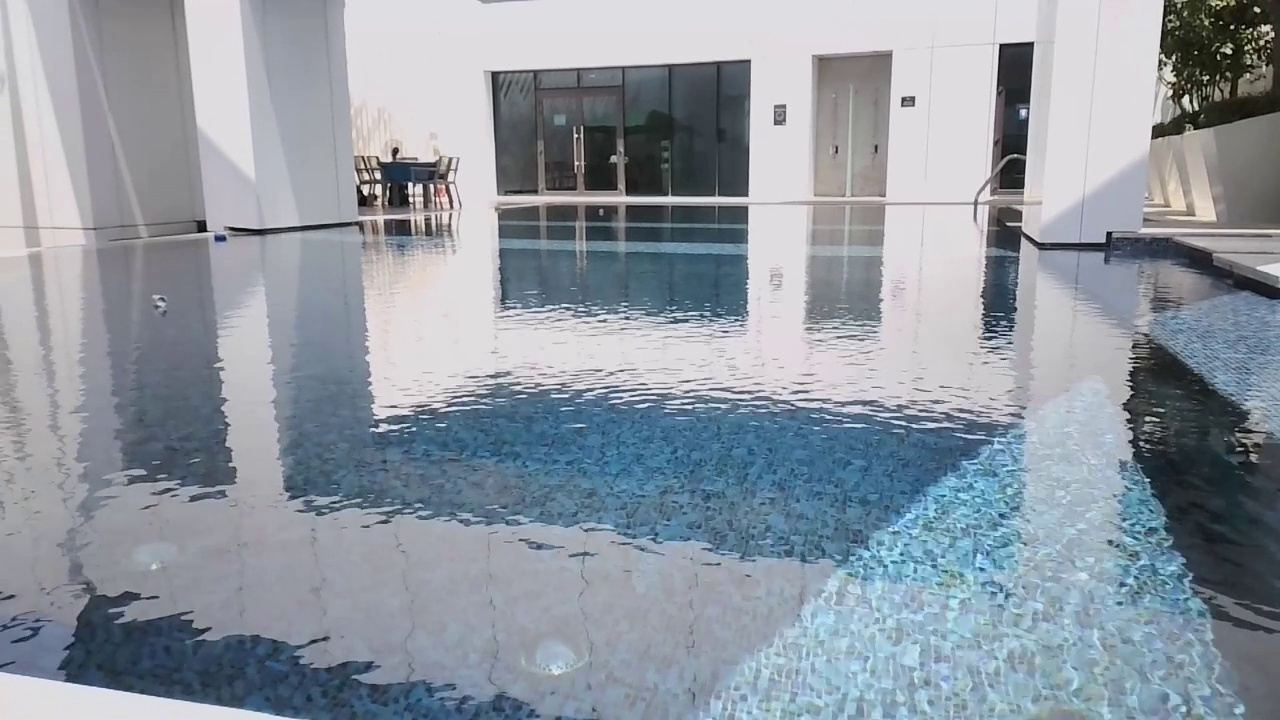debris: (146, 289, 172, 313), (211, 227, 231, 244), (595, 206, 606, 217), (492, 203, 502, 214)
